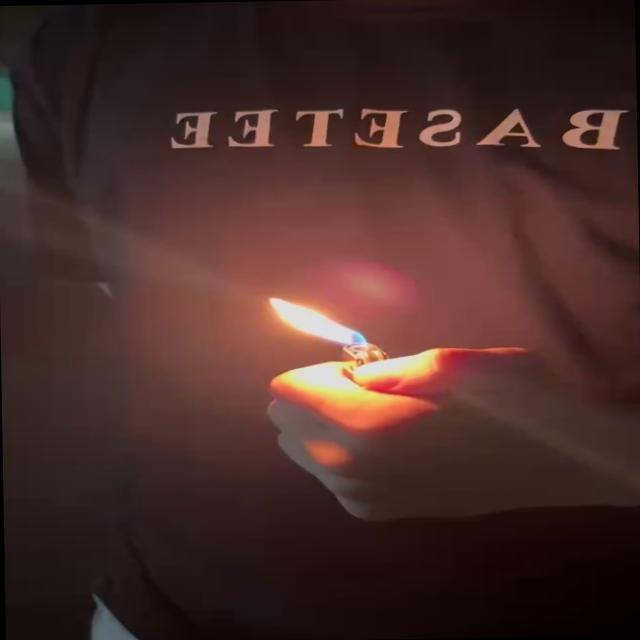Fire: (265, 294, 364, 357)
